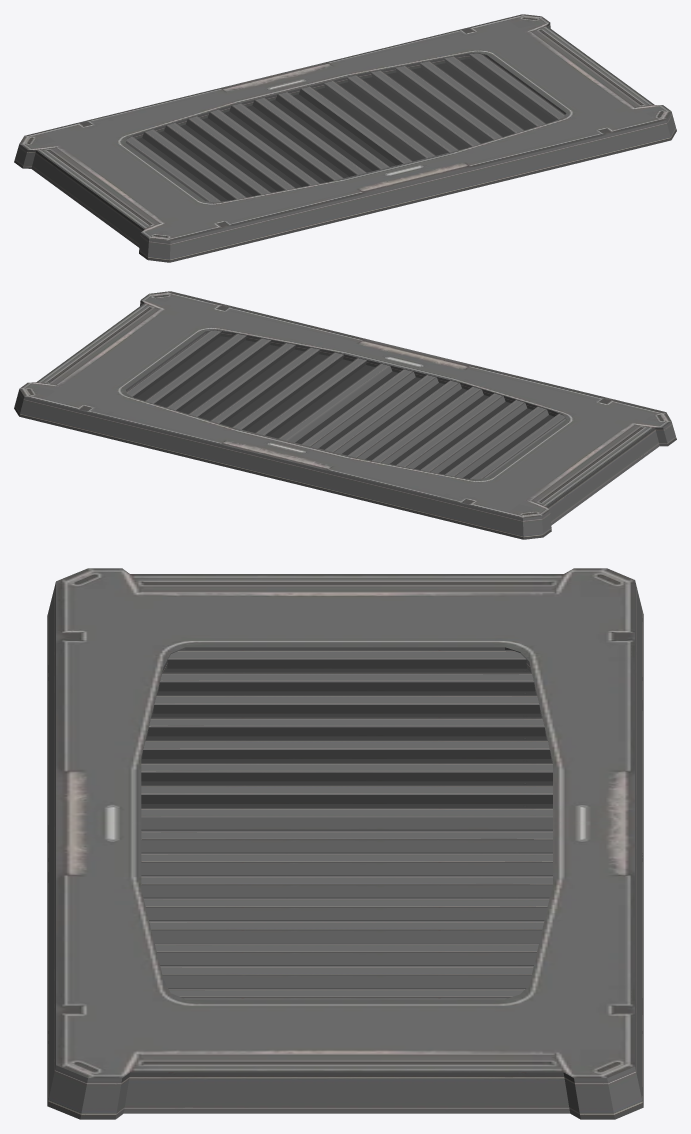
File: Prop_Vent_Big.glb
3 renders of one model, top to bottom at view 1: azimuth 30°, elevation 25°; view 2: azimuth 150°, elevation 25°; view 3: azimuth 270°, elevation 25°, orthographic. The views are drawn at different scales.
Parts seen in each view (by area): view 1: Prop_Vent_Big; view 2: Prop_Vent_Big; view 3: Prop_Vent_Big.
Part boxes in pixels (x1,y1,x2,y2): Prop_Vent_Big: (14, 14, 676, 262); Prop_Vent_Big: (14, 291, 676, 539); Prop_Vent_Big: (47, 568, 643, 1119).
Bounding box in the file's own units: 2 × 0.0689 × 0.9763.
2 materials, 2 textured.
